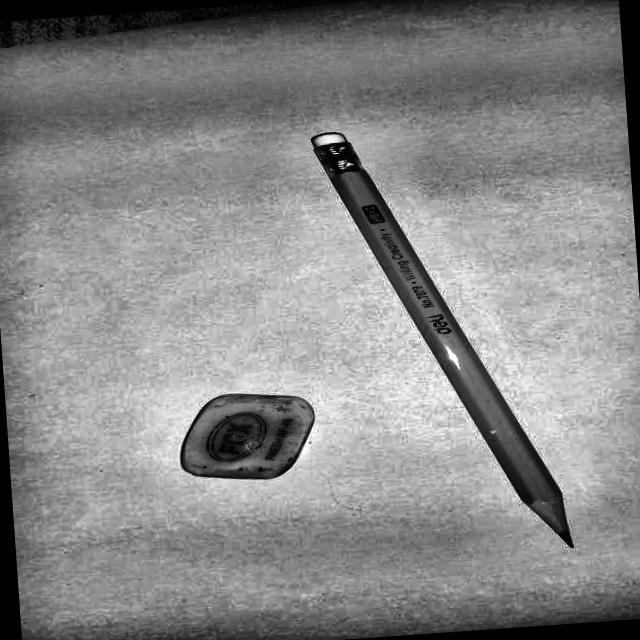eraser: (140, 376, 334, 500)
